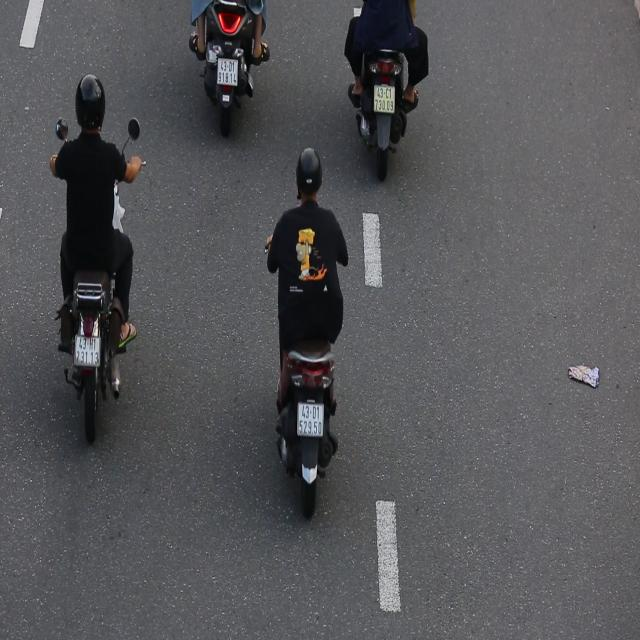motorbike: (46, 68, 146, 448), (260, 144, 352, 526)
